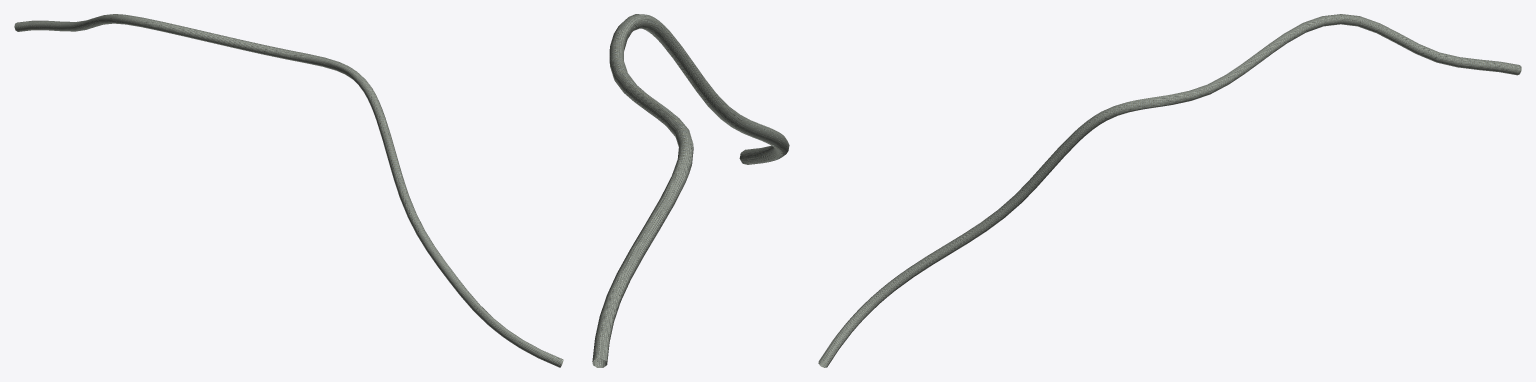
The model's file is microtubule22.fbx.
The picture shows the model from 3 angles, left to right: view 1: azimuth 30°, elevation 25°; view 2: azimuth 150°, elevation 25°; view 3: azimuth 270°, elevation 25°; orthographic projection. The views are drawn at different scales.
Parts seen in each view (by area): view 1: microtubule22; view 2: microtubule22; view 3: microtubule22.
Boxes of the visible parts, box(x1,y1,x2,y2) form: microtubule22: box(14, 14, 563, 367); microtubule22: box(592, 14, 789, 367); microtubule22: box(818, 14, 1521, 367).
Bounding box in the file's own units: 4143 × 3899 × 9936.
Materials: 1 (1 with a texture image).
